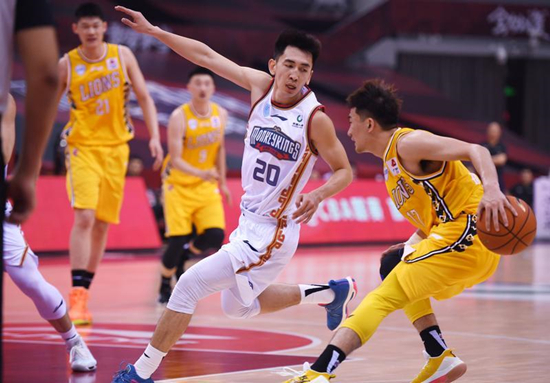ball: (476, 195, 538, 256)
